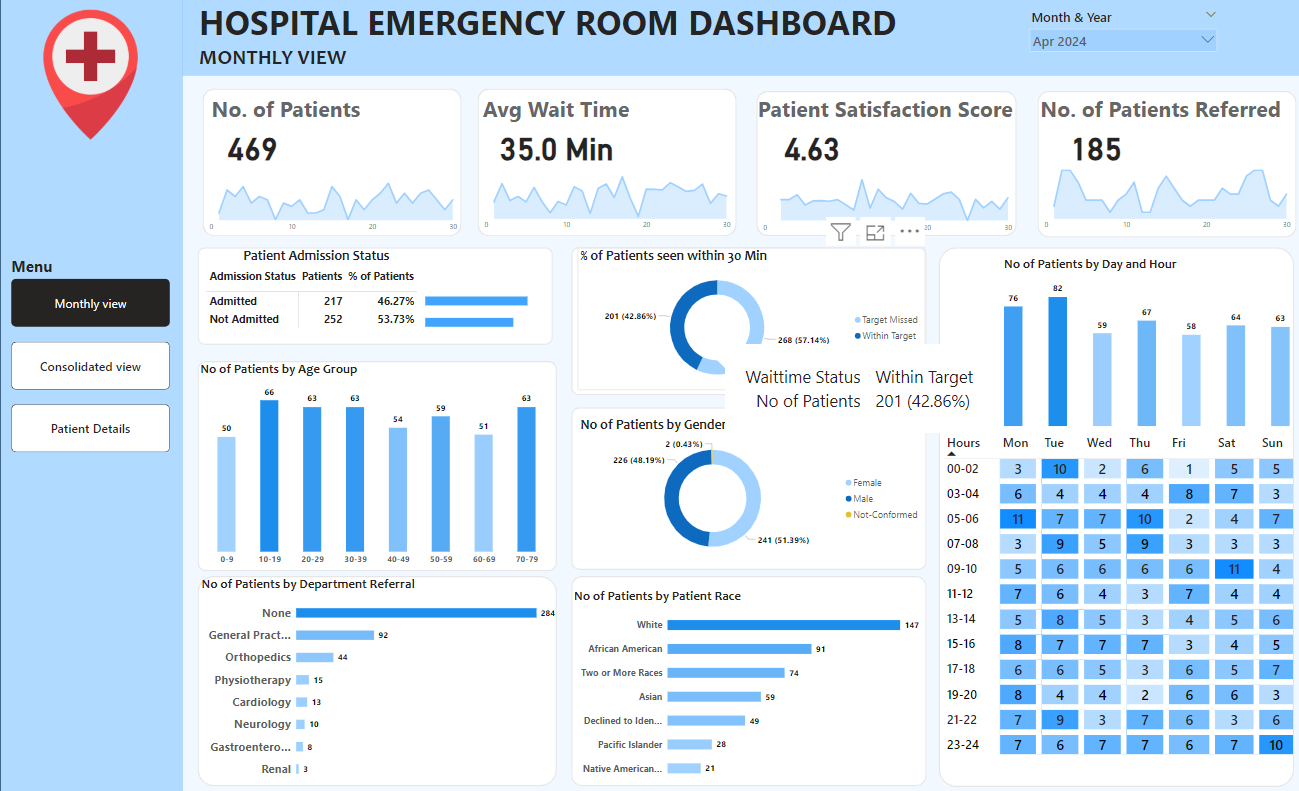

The dashboard page shown, as its layout file describes it:
{"tool":"powerbi","page":{"name":"Monthly view","canvas":[2300,1400],"ordinal":0},"visuals":[{"type":"shape","box":[1001,720.5,623,285.3],"z":0},{"type":"shape","box":[347.1,439.9,623,171.2],"z":1000},{"type":"shape","box":[354.3,161.7,454.1,259.2],"z":2000},{"type":"shape","box":[0,0,321,1400.5],"z":3000},{"type":"shape","box":[321,0,1978.3,140.3],"z":4000},{"type":"textbox","box":[344.8,0,1279.2,109.4],"z":5000},{"type":"textbox","box":[344.8,78.5,290.1,76.1],"z":6000},{"type":"card","fields":{"Values":["Hospital ER_Data.No of Patients"]},"box":[344.8,216.4,197.4,88],"z":7000},{"type":"slicer","fields":{"Values":["Date Table.Month & Year"]},"box":[1795.2,14.3,349.5,126],"z":8000},{"type":"textbox","box":[366.2,166.4,299.6,61.8],"z":9000},{"type":"areaChart","fields":{"Category":["Date Table.Date.Variation.Date Hierarchy.Day"],"Y":["Hospital ER_Data.No of Patients"]},"box":[354.3,292.5,454.1,130.8],"z":10000},{"type":"shape","box":[837,161.7,454.1,259.2],"z":11000},{"type":"card","fields":{"Values":["Hospital ER_Data.Avg Wait Time"]},"box":[865.5,216.4,221.1,88],"z":12000},{"type":"textbox","box":[841.7,166.4,282.9,61.8],"z":13000},{"type":"areaChart","fields":{"Category":["Date Table.Date.Variation.Date Hierarchy.Day"],"Y":["Avg(Hospital ER_Data.Patient Waittime)"]},"box":[837,292.5,451.8,128.4],"z":14000},{"type":"shape","box":[1326.8,166.4,456.5,254.4],"z":15000},{"type":"card","fields":{"Values":["Hospital ER_Data.Satisfaction Score"]},"box":[1333.9,216.4,178.3,88],"z":16000},{"type":"textbox","box":[1324.4,166.4,470.8,61.8],"z":17000},{"type":"areaChart","fields":{"Category":["Date Table.Date.Variation.Date Hierarchy.Day"],"Y":["Hospital ER_Data.Satisfaction Score"]},"box":[1326.8,299.6,456.5,123.6],"z":18000},{"type":"shape","box":[1819,166.4,454.1,256.8],"z":19000},{"type":"card","fields":{"Values":["Hospital ER_Data.No. of Patients Referral"]},"box":[1823.7,216.4,197.4,88],"z":20000},{"type":"textbox","box":[1819,166.4,449.4,61.8],"z":21000},{"type":"areaChart","fields":{"Category":["Date Table.Date.Variation.Date Hierarchy.Day"],"Y":["Hospital ER_Data.No. of Patients Referral"]},"box":[1819,292.5,451.8,128.4],"z":22000},{"type":"pivotTable","title":"Patient Admission Status","fields":{"Rows":["Hospital ER_Data.Admission Status"],"Values":["Hospital ER_Data.No of Patients1","Hospital ER_Data.No of Patients"]},"box":[356.7,439.9,394.7,171.2],"z":23000},{"type":"barChart","fields":{"Category":["Hospital ER_Data.Admission Status"],"Y":["Hospital ER_Data.No of Patients"]},"box":[741.9,494.6,223.5,111.8],"z":24000},{"type":"shape","box":[347.1,639.6,630.1,368.5],"z":25000},{"type":"clusteredColumnChart","fields":{"Category":["Hospital ER_Data.Age Group"],"Y":["Hospital ER_Data.No of Patients"]},"box":[347.1,639.6,630.1,368.5],"z":26000},{"type":"shape","box":[347.1,1017.7,630.1,368.5],"z":27000},{"type":"barChart","fields":{"Category":["Hospital ER_Data.Department Referral"],"Y":["Hospital ER_Data.No of Patients"]},"box":[349.5,1017.7,630.1,368.5],"z":28000},{"type":"shape","box":[1001,1017.7,623,368.5],"z":29000},{"type":"shape","box":[1001,439.9,623,259.2],"z":30000},{"type":"donutChart","title":"% of Patients seen within 30 Min","fields":{"Category":["Hospital ER_Data.Waittime Status"],"Y":["Hospital ER_Data.No of Patients"]},"box":[1012.9,439.9,611.1,252],"z":31000},{"type":"donutChart","title":"No of Patients by Gender","fields":{"Category":["Hospital ER_Data.Patient Gender"],"Y":["Hospital ER_Data.No of Patients"]},"box":[1012.9,737.1,611.1,259.2],"z":32000},{"type":"barChart","fields":{"Category":["Hospital ER_Data.Patient Race"],"Y":["Hospital ER_Data.No of Patients"]},"box":[1001,1036.7,623,349.5],"z":33000},{"type":"shape","box":[1645.4,439.9,623,946.3],"z":34000},{"type":"pivotTable","fields":{"Rows":["Hospital ER_Data.Waittime Interval"],"Columns":["Date Table.Day Name"],"Values":["Hospital ER_Data.No of Patients"]},"box":[1650.1,760.9,623,608.7],"z":35000},{"type":"columnChart","title":"No of Patients by Day and Hour","fields":{"Category":["Date Table.Day Name"],"Y":["Hospital ER_Data.No of Patients"]},"box":[1754.8,456.5,513.6,304.3],"z":36000},{"type":"pageNavigator","title":"Menu","box":[19,456.5,278.2,347.1],"z":37000},{"type":"image","box":[9.5,7.1,299.6,261.6],"z":37001}]}

Visuals, with their boxes in screenshot pixels (x1, y1, x2, y2), scaled from the page's 2300x1400 canvas onto the 1299x791 screenshot:
shape: l=565, t=407, r=917, b=568
shape: l=196, t=249, r=548, b=345
shape: l=200, t=91, r=457, b=238
shape: l=0, t=0, r=181, b=790
shape: l=181, t=0, r=1298, b=79
textbox: l=195, t=0, r=917, b=62
textbox: l=195, t=44, r=359, b=87
card - Hospital ER_Data.No of Patients: l=195, t=122, r=306, b=172
slicer - Date Table.Month & Year: l=1014, t=8, r=1211, b=79
textbox: l=207, t=94, r=376, b=129
areaChart - Date Table.Date.Variation.Date Hierarchy.Day x Hospital ER_Data.No of Patients: l=200, t=165, r=457, b=239
shape: l=473, t=91, r=729, b=238
card - Hospital ER_Data.Avg Wait Time: l=489, t=122, r=614, b=172
textbox: l=475, t=94, r=635, b=129
areaChart - Date Table.Date.Variation.Date Hierarchy.Day x Avg(Hospital ER_Data.Patient Waittime): l=473, t=165, r=728, b=238
shape: l=749, t=94, r=1007, b=238
card - Hospital ER_Data.Satisfaction Score: l=753, t=122, r=854, b=172
textbox: l=748, t=94, r=1014, b=129
areaChart - Date Table.Date.Variation.Date Hierarchy.Day x Hospital ER_Data.Satisfaction Score: l=749, t=169, r=1007, b=239
shape: l=1027, t=94, r=1284, b=239
card - Hospital ER_Data.No. of Patients Referral: l=1030, t=122, r=1141, b=172
textbox: l=1027, t=94, r=1281, b=129
areaChart - Date Table.Date.Variation.Date Hierarchy.Day x Hospital ER_Data.No. of Patients Referral: l=1027, t=165, r=1283, b=238
"Patient Admission Status" pivotTable: l=201, t=249, r=424, b=345
barChart - Hospital ER_Data.Admission Status x Hospital ER_Data.No of Patients: l=419, t=279, r=545, b=343
shape: l=196, t=361, r=552, b=570
clusteredColumnChart - Hospital ER_Data.Age Group x Hospital ER_Data.No of Patients: l=196, t=361, r=552, b=570
shape: l=196, t=575, r=552, b=783
barChart - Hospital ER_Data.Department Referral x Hospital ER_Data.No of Patients: l=197, t=575, r=553, b=783
shape: l=565, t=575, r=917, b=783
shape: l=565, t=249, r=917, b=395
"% of Patients seen within 30 Min" donutChart: l=572, t=249, r=917, b=391
"No of Patients by Gender" donutChart: l=572, t=416, r=917, b=563
barChart - Hospital ER_Data.Patient Race x Hospital ER_Data.No of Patients: l=565, t=586, r=917, b=783
shape: l=929, t=249, r=1281, b=783
pivotTable - Hospital ER_Data.Waittime Interval x Date Table.Day Name: l=932, t=430, r=1284, b=774
"No of Patients by Day and Hour" columnChart: l=991, t=258, r=1281, b=430
"Menu" pageNavigator: l=11, t=258, r=168, b=454
image: l=5, t=4, r=175, b=152
